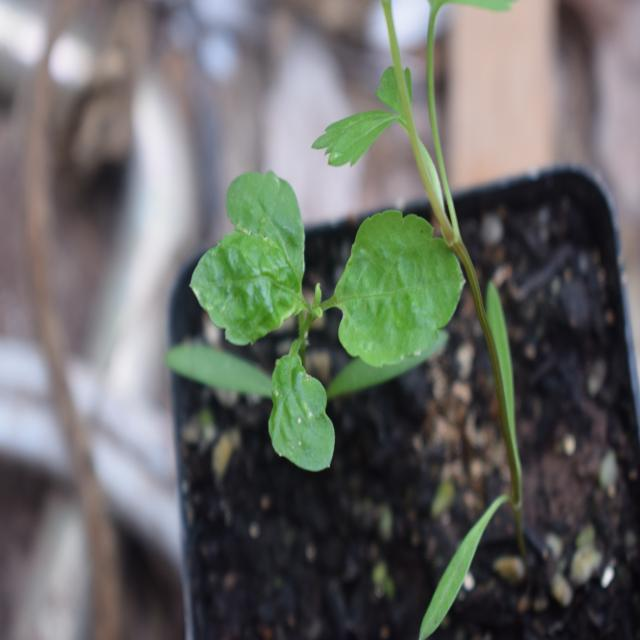Bidens pilosa: (185, 148, 447, 470)
